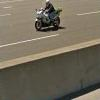Motorcycle: (22, 2, 69, 37)
